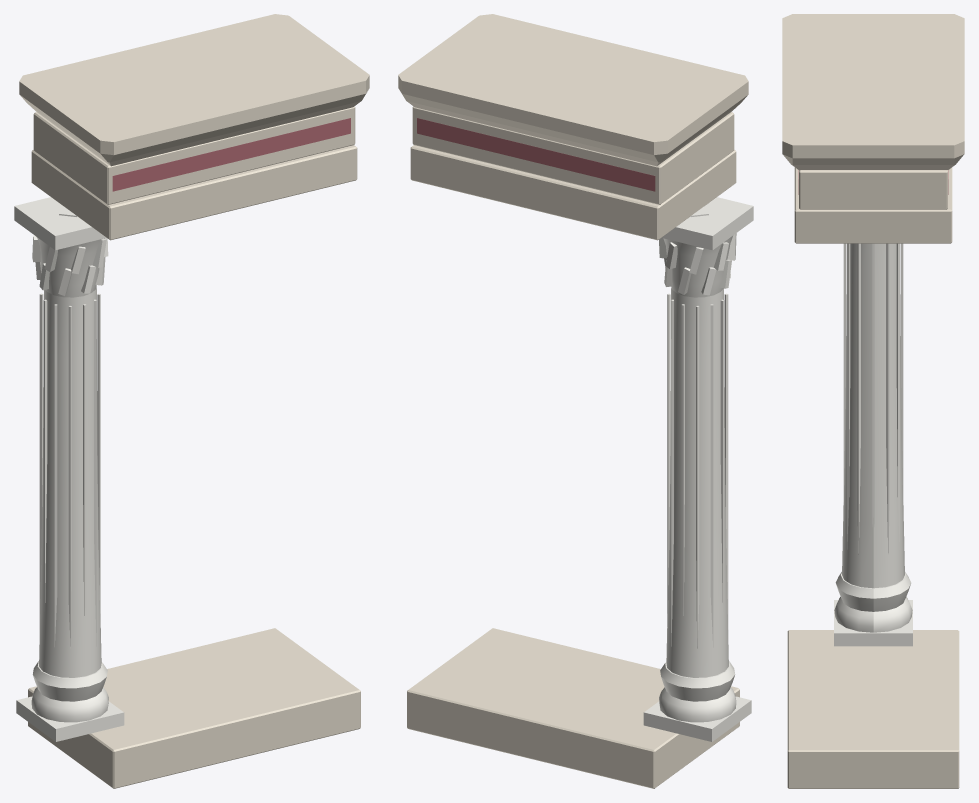
The model's file is roman-bathhouse-and-palaestra-colonnade-bay-8b3240b9__37863.glb.
The picture shows the model from 3 angles, left to right: view 1: azimuth 30°, elevation 25°; view 2: azimuth 150°, elevation 25°; view 3: azimuth 270°, elevation 25°; orthographic projection.
Visible parts, largest first — view 1: colonnade-bay; view 2: colonnade-bay; view 3: colonnade-bay.
Part boxes in pixels (bbox=[...]): colonnade-bay: bbox=[14, 14, 369, 788]; colonnade-bay: bbox=[398, 14, 753, 788]; colonnade-bay: bbox=[782, 14, 964, 788].
Bounding box in the file's own units: 2.37 × 5 × 1.27.
